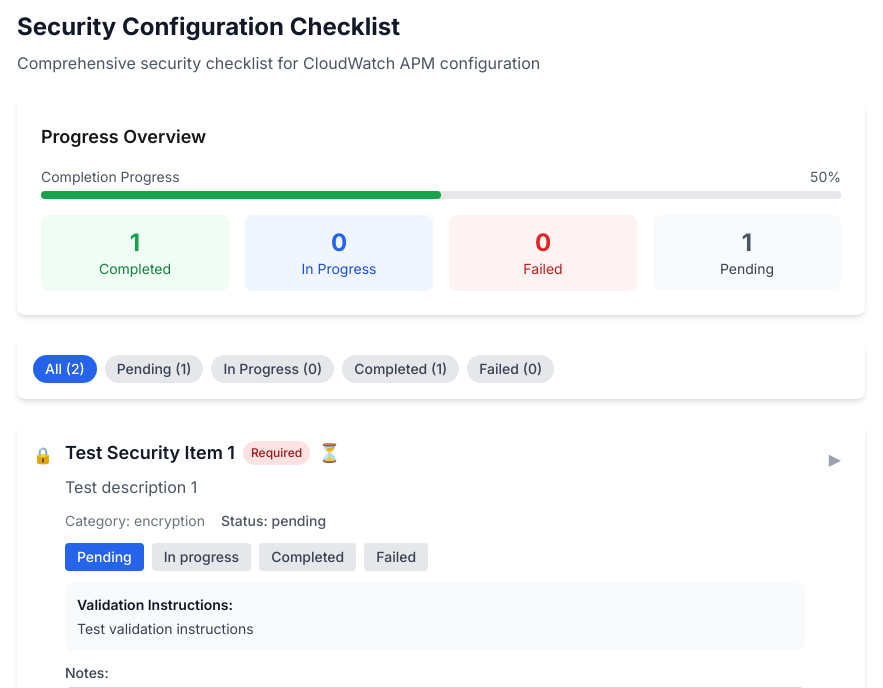
Test case: SecurityChecklist › filters items by status
# Click on completed filter
Click the button "Completed (1)" at (401, 369), box [342,355,459,383]
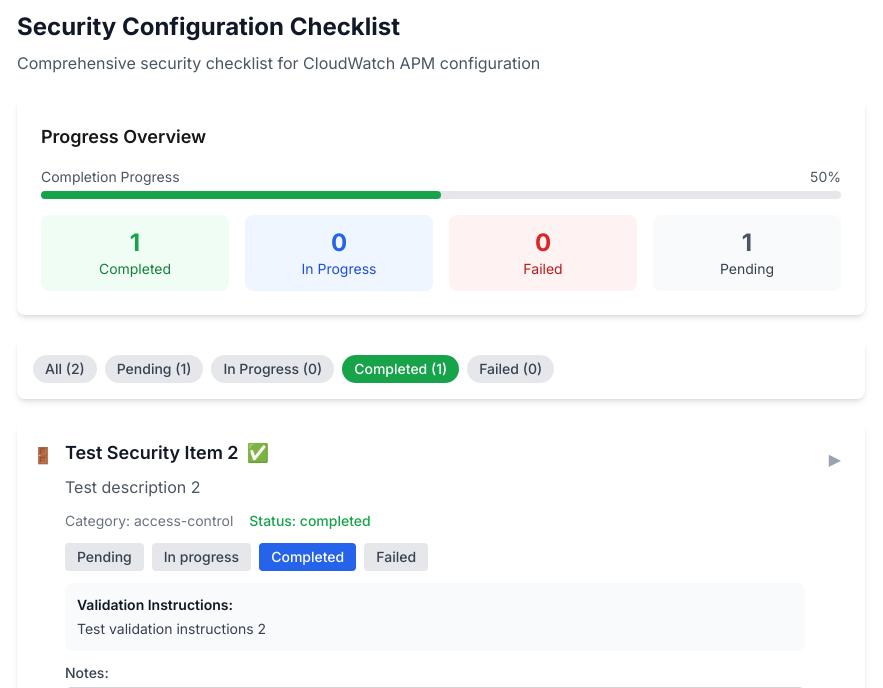
Expected: the heading "Test Security Item 2" is shown, [65,439,239,467]
Now the heading "Test Security Item 1" is gone
